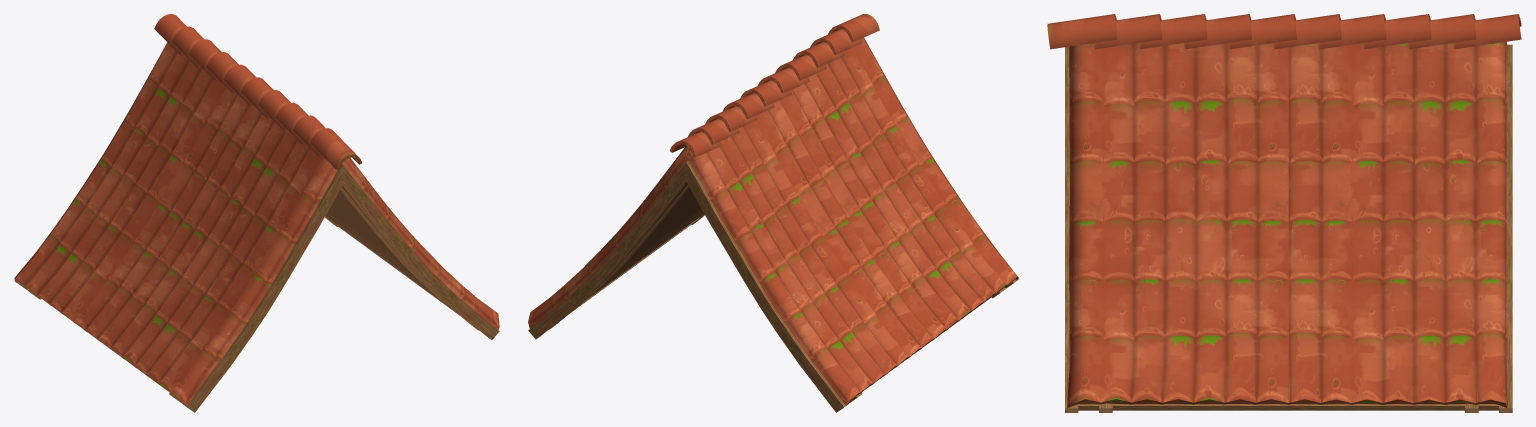
The model's file is Roof_RoundTiles_6x6.gltf.
3 renders of one model, left to right at view 1: azimuth 30°, elevation 25°; view 2: azimuth 150°, elevation 25°; view 3: azimuth 270°, elevation 25°, orthographic. The views are drawn at different scales.
Visible parts, largest first — view 1: Roof_RoundTiles_6x6; view 2: Roof_RoundTiles_6x6; view 3: Roof_RoundTiles_6x6.
Boxes of the visible parts, left/top/right/bottom form: Roof_RoundTiles_6x6: left=14, top=14, right=499, bottom=412; Roof_RoundTiles_6x6: left=528, top=14, right=1018, bottom=412; Roof_RoundTiles_6x6: left=1047, top=14, right=1521, bottom=412.
Size of the model in its own units: 8.25 by 5.67 by 8.03.
2 materials, 2 textured.
